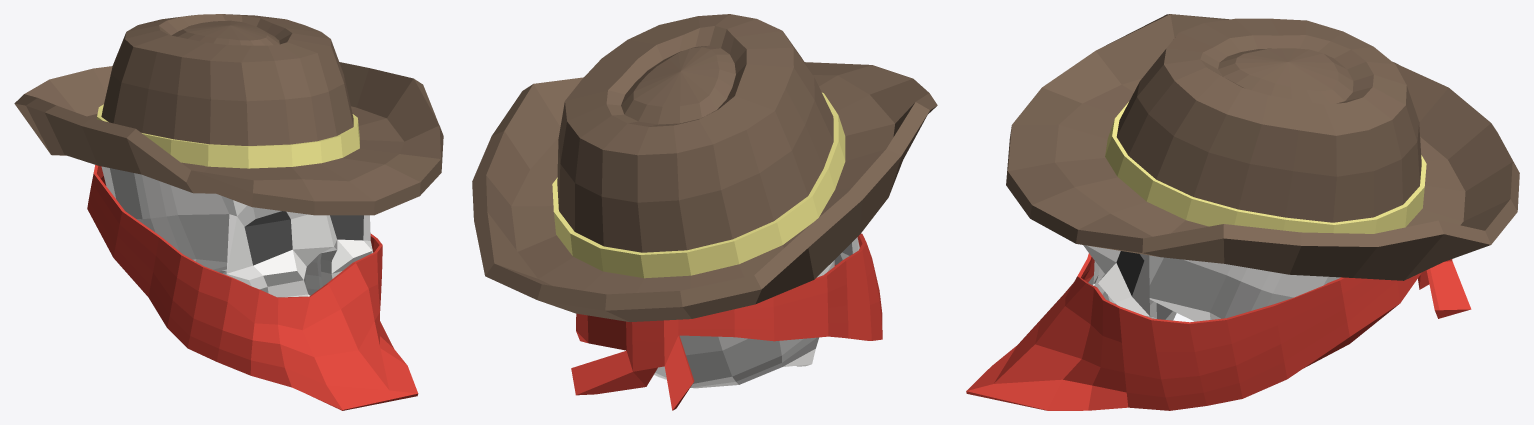
The model's file is Fancy_Skull.fbx.
3 renders of one model, left to right at view 1: azimuth 30°, elevation 25°; view 2: azimuth 150°, elevation 25°; view 3: azimuth 270°, elevation 25°, orthographic. The views are drawn at different scales.
Parts seen in each view (by area): view 1: Fancy_Skull; view 2: Fancy_Skull; view 3: Fancy_Skull.
Boxes of the visible parts, bbox=[...] form: Fancy_Skull: bbox=[14, 14, 443, 410]; Fancy_Skull: bbox=[472, 14, 937, 410]; Fancy_Skull: bbox=[966, 14, 1519, 410].
Bounding box in the file's own units: 33.27 × 42.76 × 27.83.
